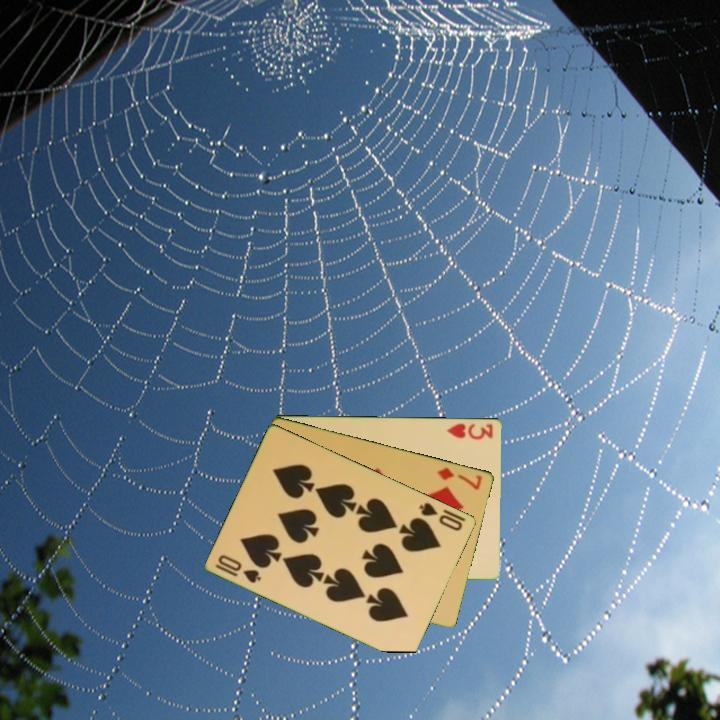10s: (212, 551, 264, 586), (416, 499, 466, 534)
3h: (444, 419, 496, 442)
7d: (434, 463, 485, 492)
